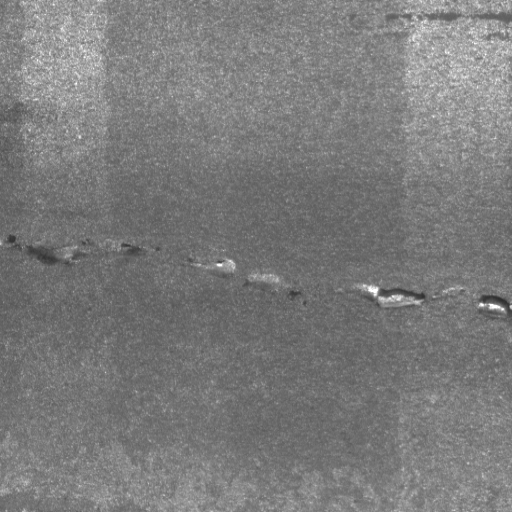aokeng: (340, 278, 512, 321), (3, 230, 156, 269), (181, 252, 303, 300)
